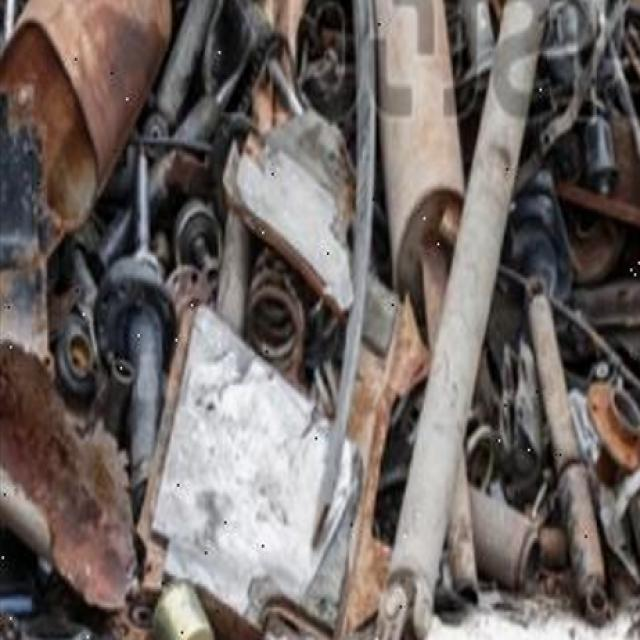shock absorber: (526, 273, 609, 626), (127, 137, 164, 525)
